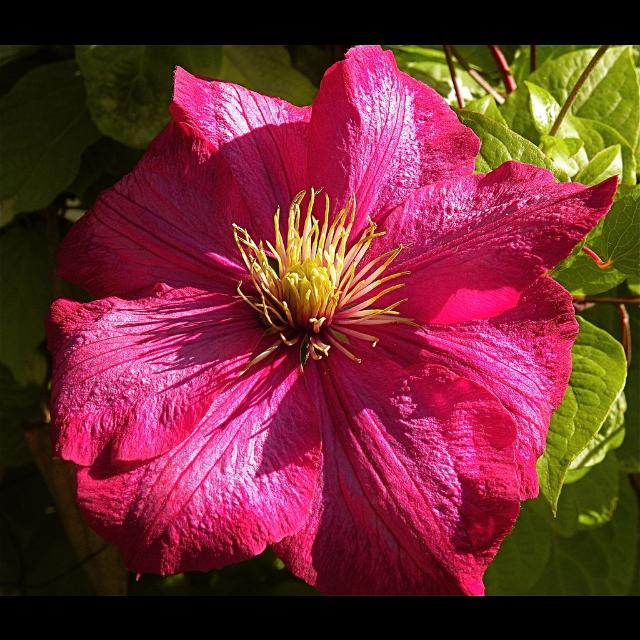Flower: (30, 62, 622, 564)
